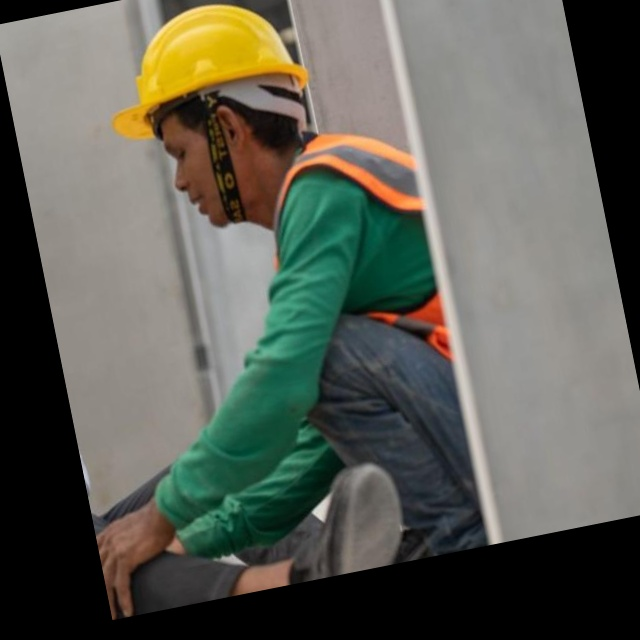Con_Casco: (96, 0, 331, 243)
